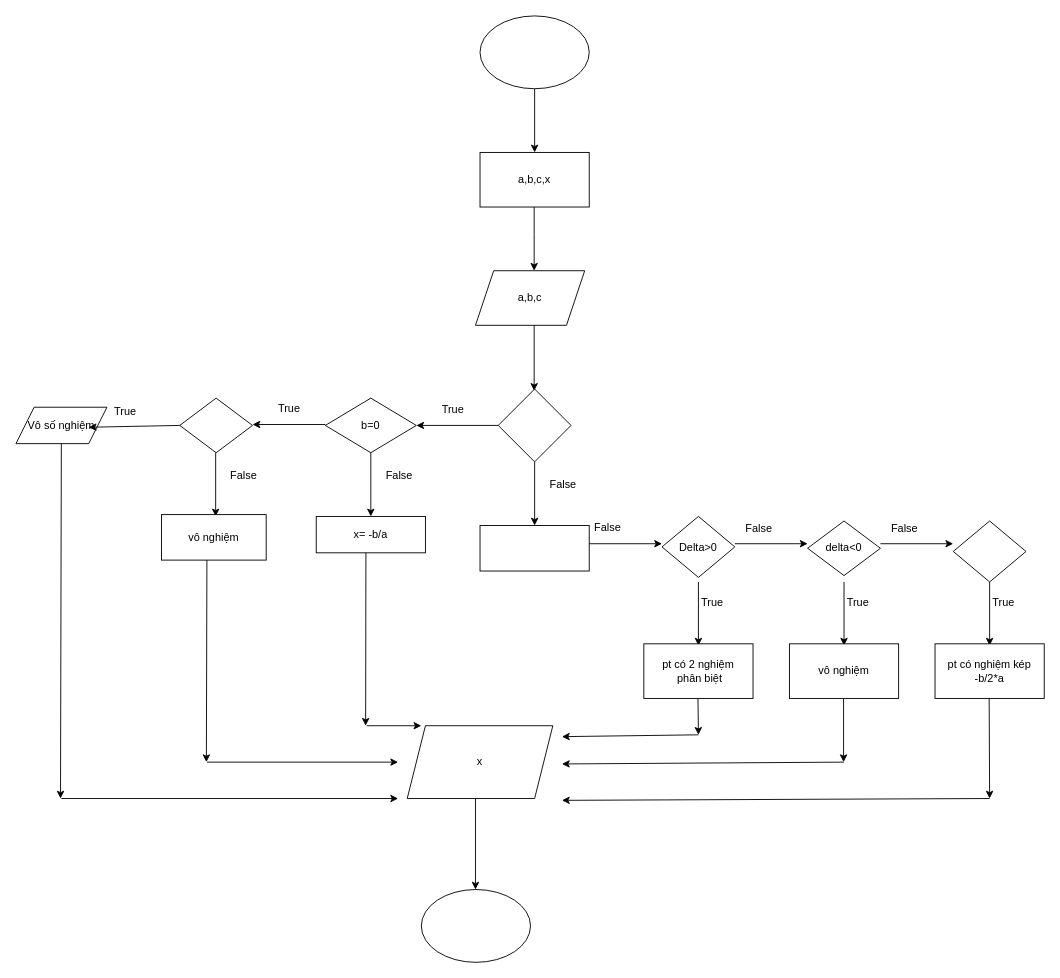
Some shapes in this 1060 by 978 pixel diagram are drawn without their labels. The centre of each missing label's shape, as x and y in pixels:
"a = 0" goes at (x=534, y=425).
"c=0" goes at (x=216, y=425).
"delta=0" goes at (x=989, y=551).
"Delta=b^2-4*a*c" goes at (x=534, y=548).
"End" goes at (x=475, y=925).
"START" goes at (x=534, y=52).
